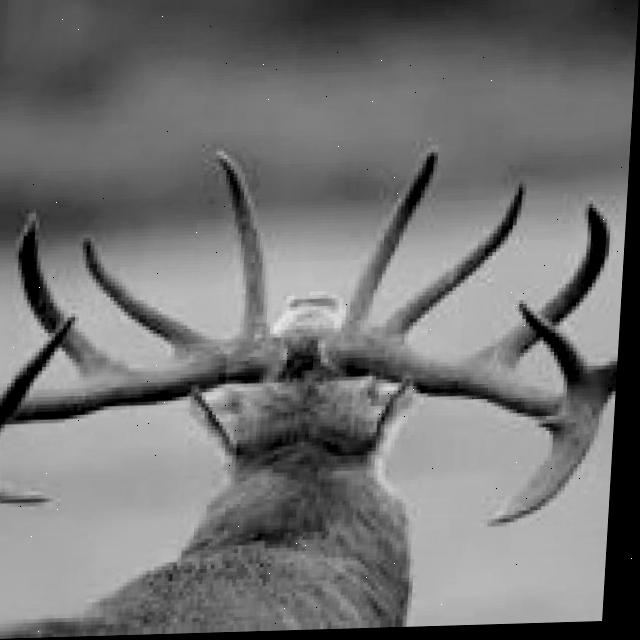Deer: (27, 167, 616, 637)
